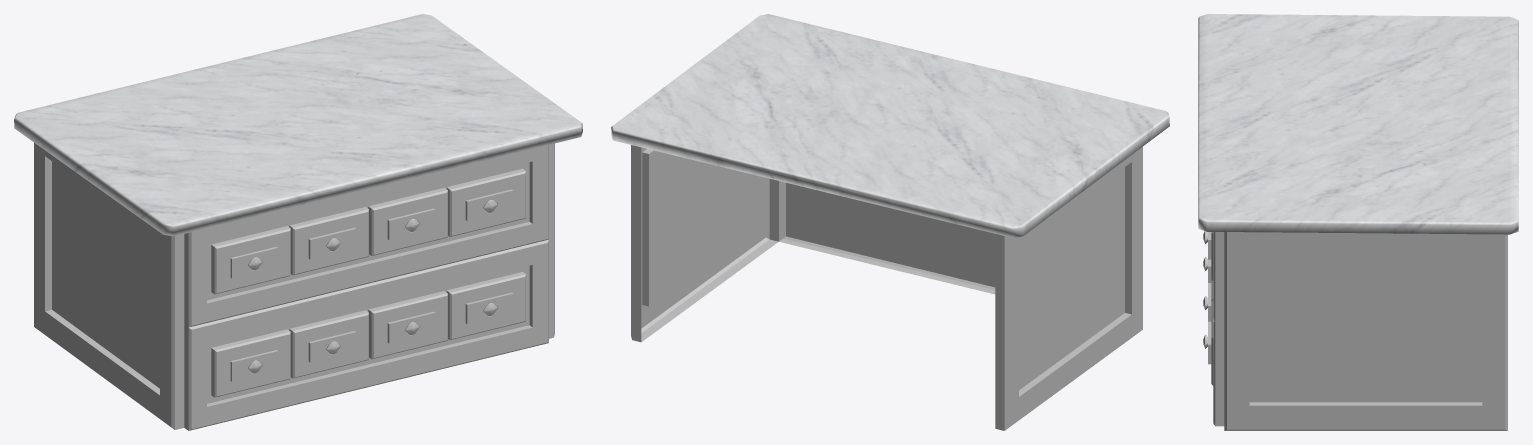
The model's file is Como.fbx.
The picture shows the model from 3 angles, left to right: view 1: azimuth 30°, elevation 25°; view 2: azimuth 150°, elevation 25°; view 3: azimuth 270°, elevation 25°; orthographic projection. The views are drawn at different scales.
Parts seen in each view (by area): view 1: Como; view 2: Como; view 3: Como.
Boxes of the visible parts, <box> form: Como: <box>14,14,582,430</box>; Como: <box>611,14,1169,430</box>; Como: <box>1198,14,1518,430</box>.
Size of the model in its own units: 273 by 135 by 178.
